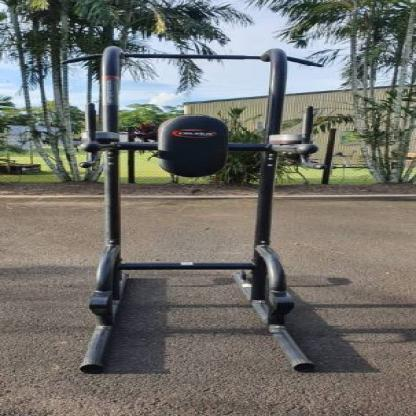chinning dipping: (67, 48, 325, 372)
